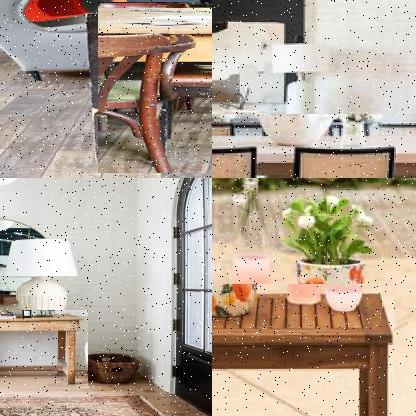table: (212, 284, 396, 415), (98, 2, 211, 174), (212, 114, 415, 177), (0, 310, 90, 390)
